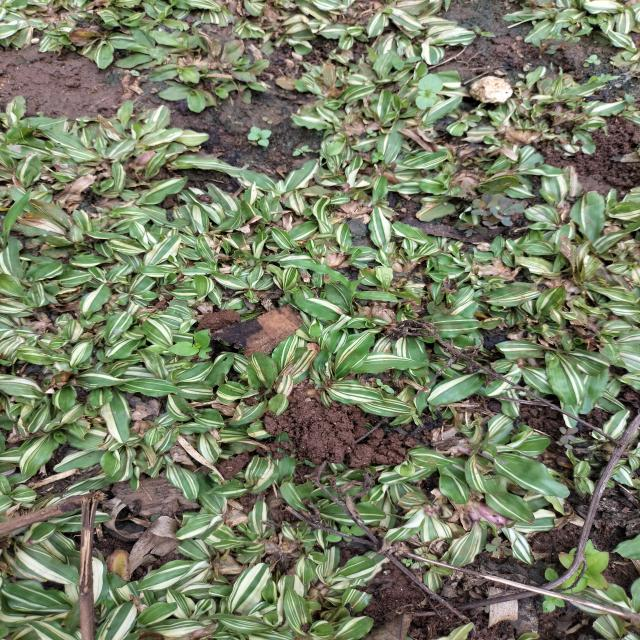bayi: (375, 376, 398, 395), (371, 146, 386, 164), (292, 145, 312, 158), (260, 114, 275, 126), (367, 128, 378, 137)
buah daun: (458, 190, 528, 242)
gingseng jawa: (538, 20, 596, 55), (385, 42, 424, 71)
rambat atas: (0, 186, 36, 249)
rambat bawah: (276, 258, 404, 306)
